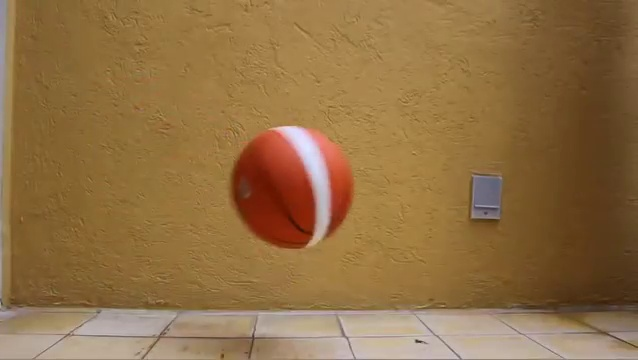ball: (231, 125, 352, 252)
